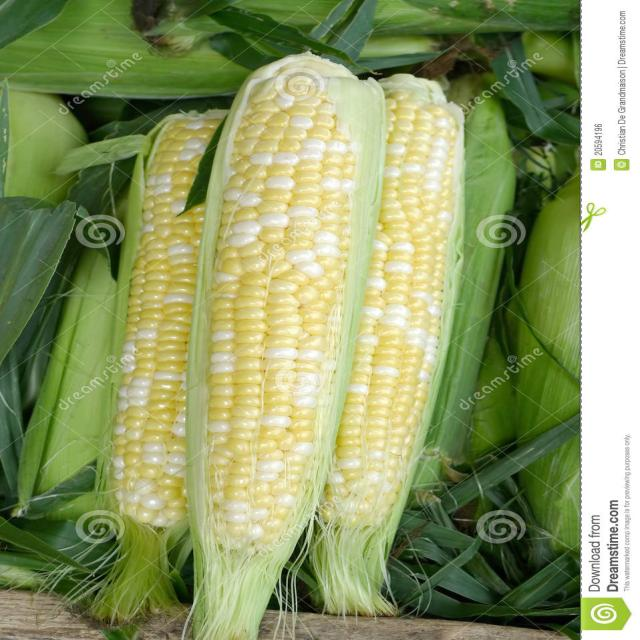corn: (162, 65, 390, 640)
